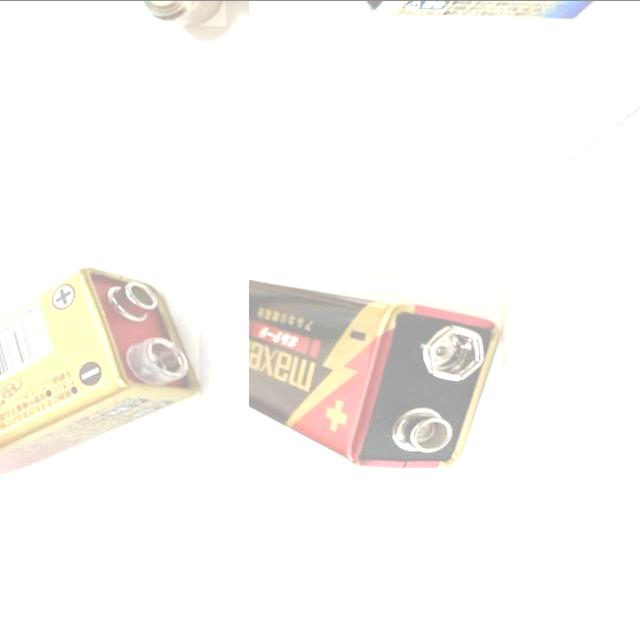9V: (249, 278, 501, 470), (0, 263, 199, 477)
